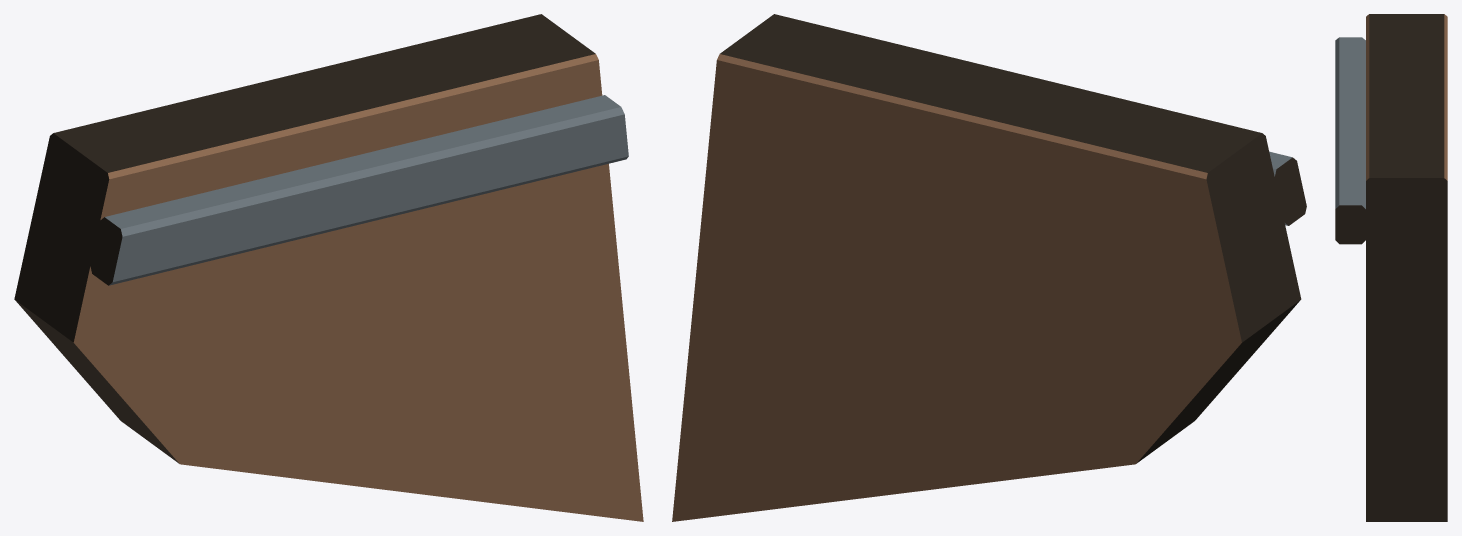
File: SM_DoorShard_03_28.fbx
3 renders of one model, left to right at view 1: azimuth 30°, elevation 25°; view 2: azimuth 150°, elevation 25°; view 3: azimuth 270°, elevation 25°, orthographic. The views are drawn at different scales.
Parts seen in each view (by area): view 1: SM_DoorShard_03_28; view 2: SM_DoorShard_03_28; view 3: SM_DoorShard_03_28.
Part boxes in pixels (x1,y1,x2,y2): SM_DoorShard_03_28: [14, 14, 643, 521]; SM_DoorShard_03_28: [672, 14, 1306, 521]; SM_DoorShard_03_28: [1335, 14, 1447, 521].
Size of the model in its own units: 88.72 by 22 by 71.
